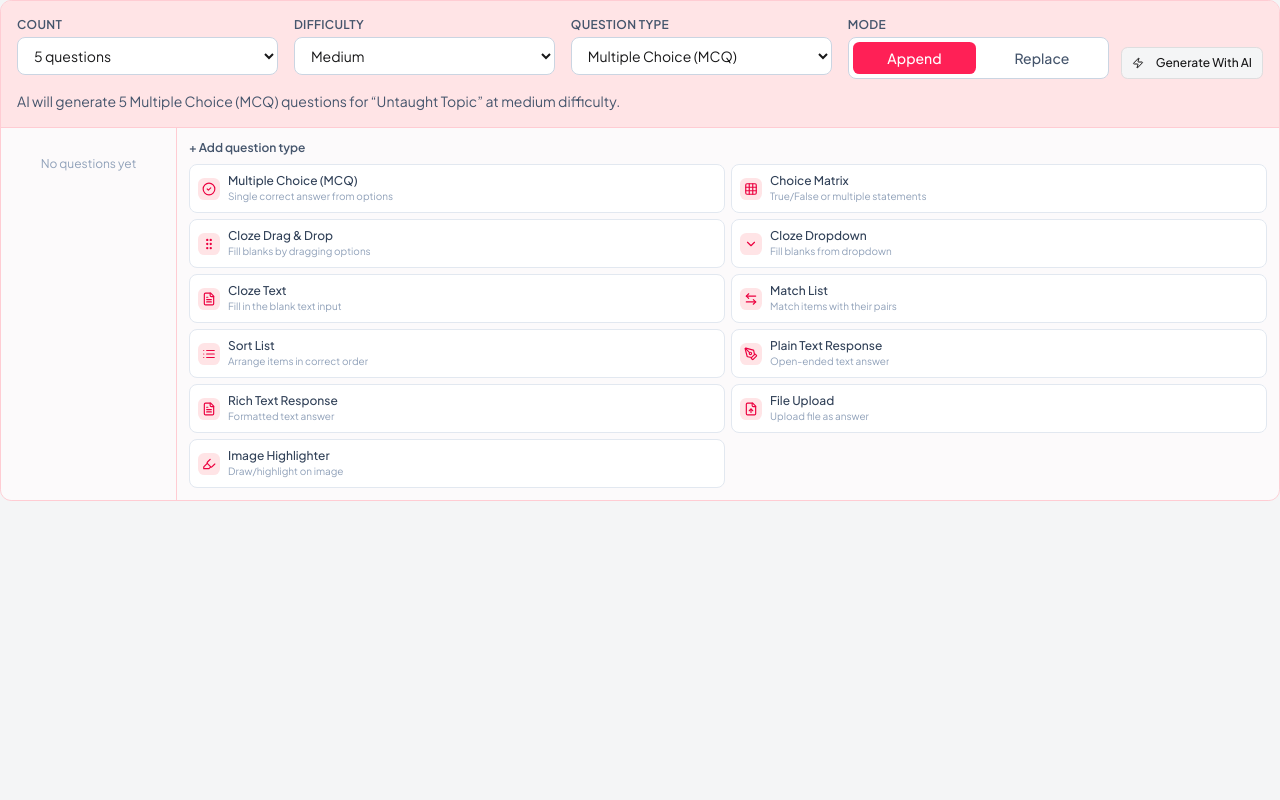
InlineTryoutBuilder AI generation — RAG-grounded, non-mcq types › surfaces the "no material found" error instead of guessing content
Click the button "Generate With AI" at (1192, 63), box [1121,47,1263,79]
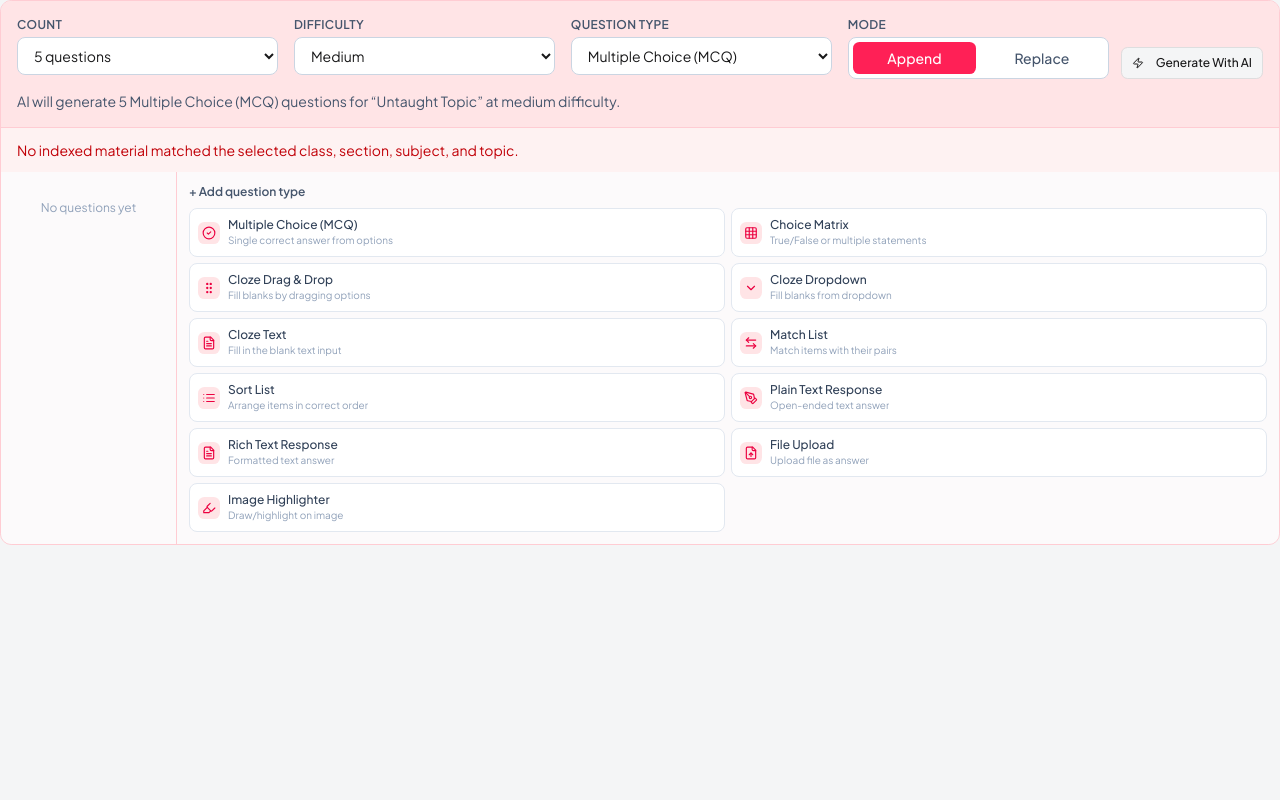
Expected: the text "No indexed material matched" is shown, [17,141,518,159]
